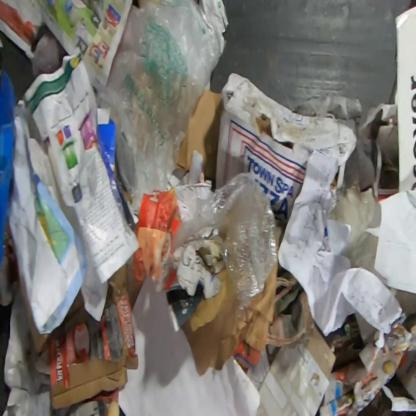cardboard: (215, 72, 359, 223), (49, 263, 138, 412), (175, 88, 223, 179), (393, 5, 415, 194), (16, 268, 49, 355), (358, 102, 398, 166), (174, 178, 215, 221)
soft_plastic: (95, 0, 221, 211), (171, 172, 278, 324)
